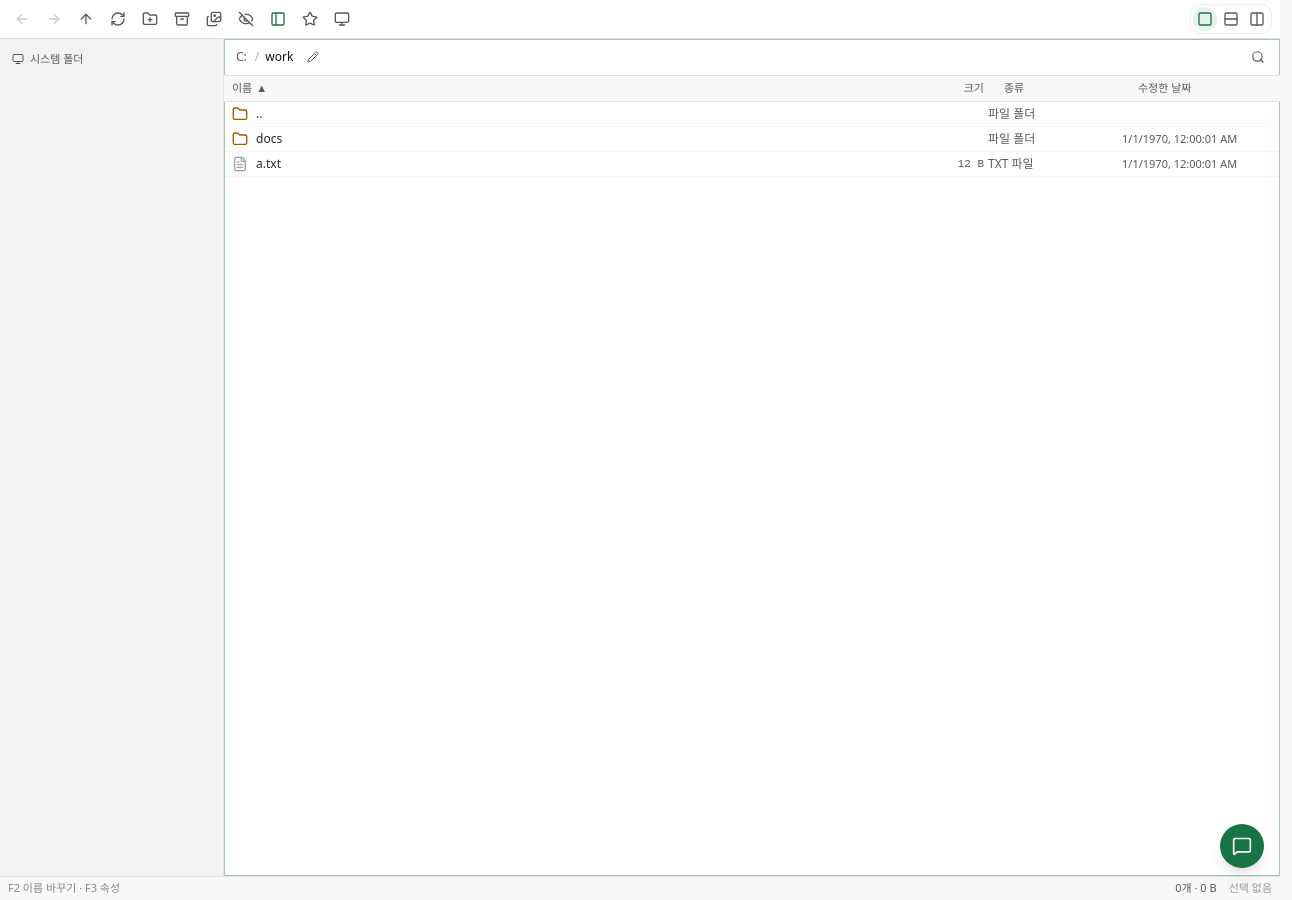
Scenario: FileExplorerTab › splits into two panes
The image size is (1292, 900).
Expected: the text "a.txt" is shown, [256,156,281,172]
Click the button titled "2분할 세로 (좌·우) (Alt+3)" at (1257, 19), box [1245,7,1269,31]
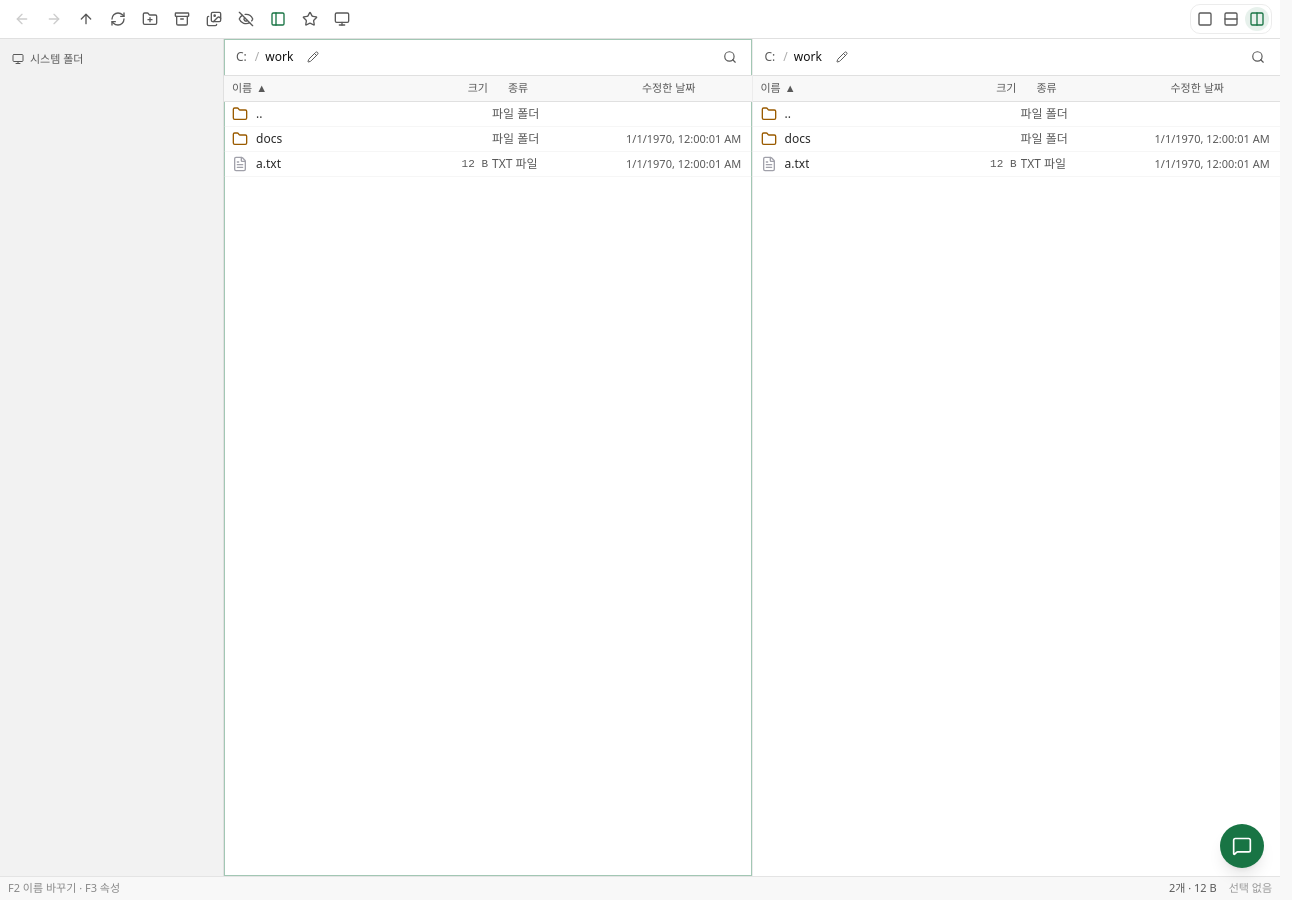
Now the text "a.txt" is shown 2 times, box [256,156,281,172]; [784,156,810,172]
Now the number of buttons titled "찾기 (Ctrl+F)" is 2, box [716,43,744,71]; [1244,43,1272,71]
